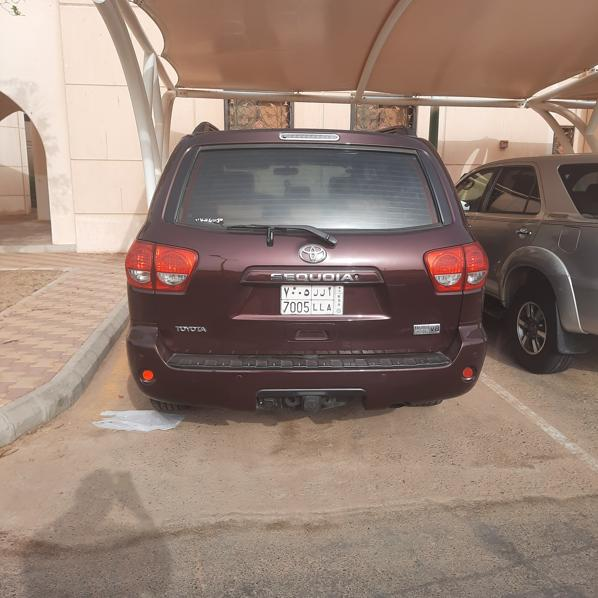numberplate: (281, 284, 343, 315)
